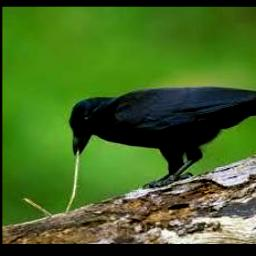Crow: (68, 85, 256, 189)
